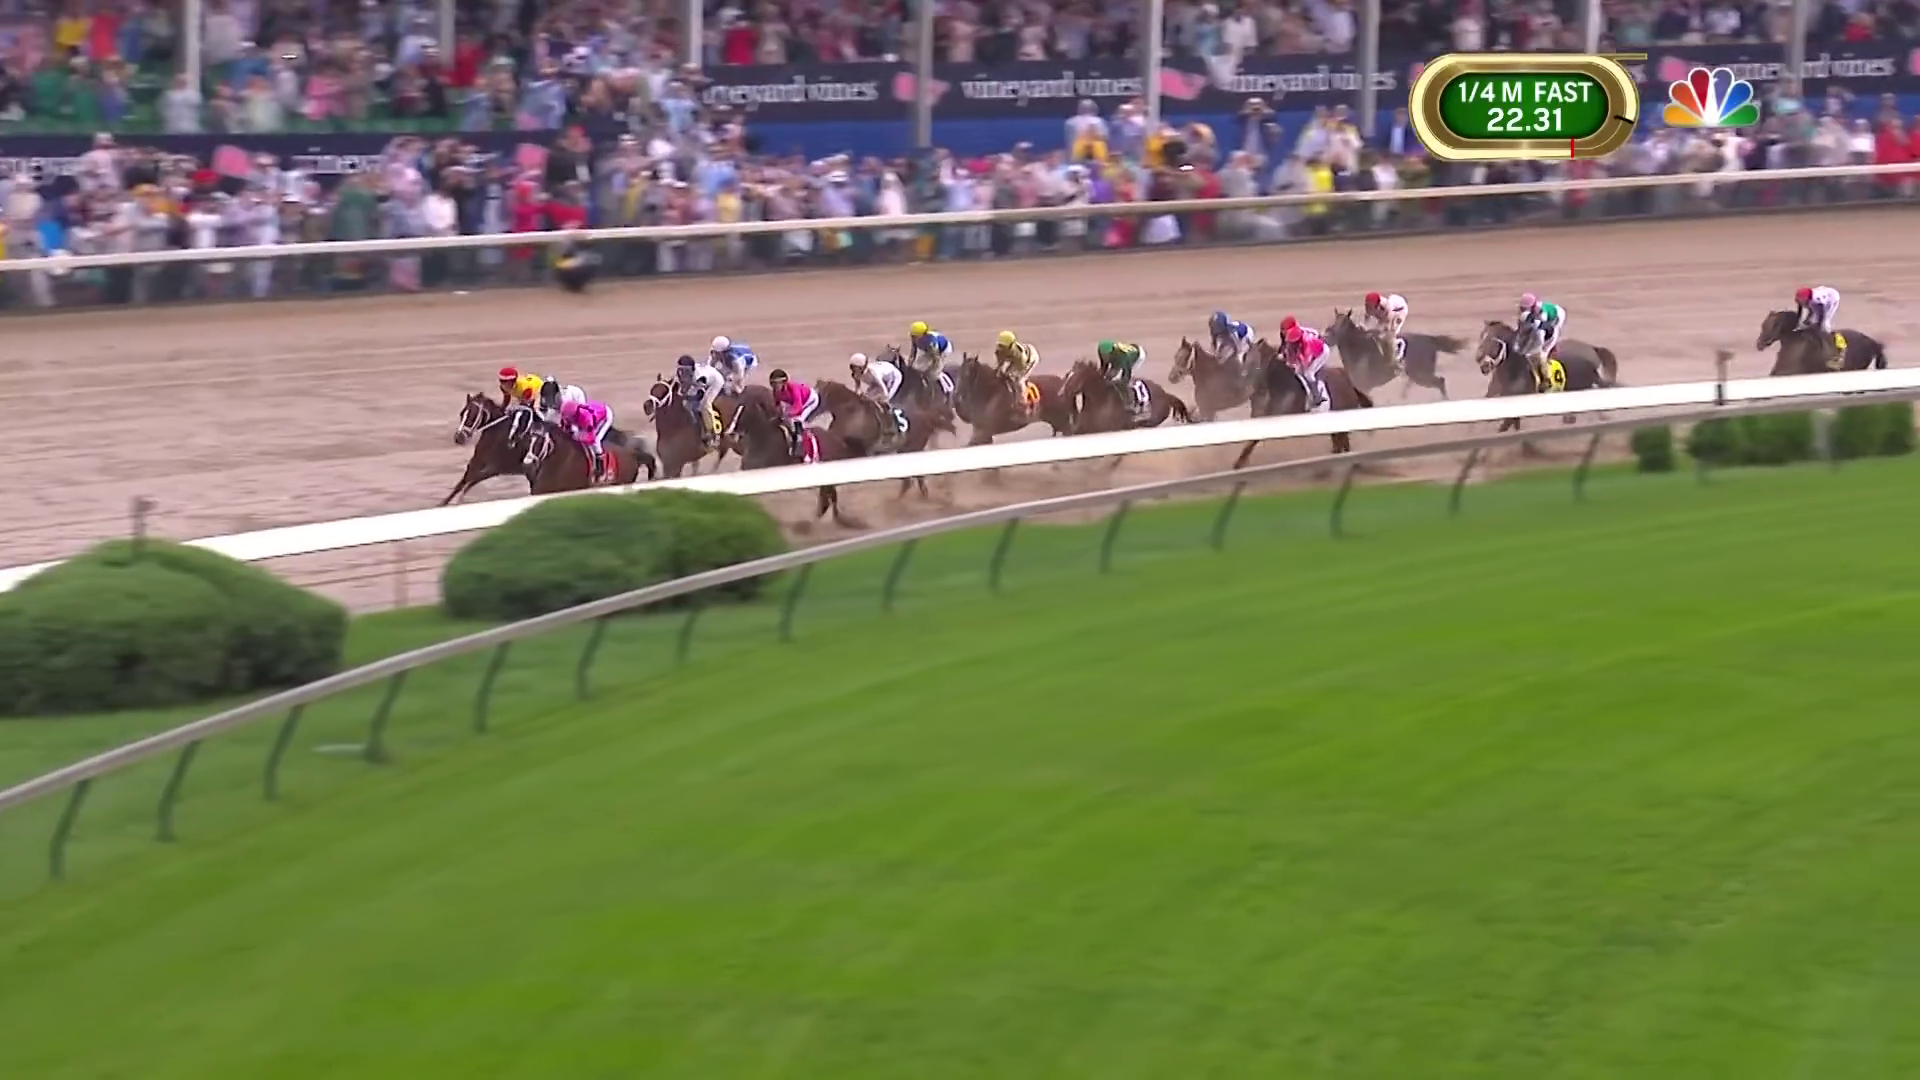jockey: (767, 365, 819, 448), (1280, 320, 1331, 402), (992, 332, 1040, 413), (558, 404, 617, 469), (1358, 287, 1408, 363), (1793, 281, 1845, 353), (906, 322, 953, 400), (671, 357, 723, 429), (851, 353, 905, 419), (1095, 342, 1147, 407), (495, 369, 549, 427), (1207, 313, 1255, 376), (1516, 315, 1556, 386), (709, 339, 758, 392)
